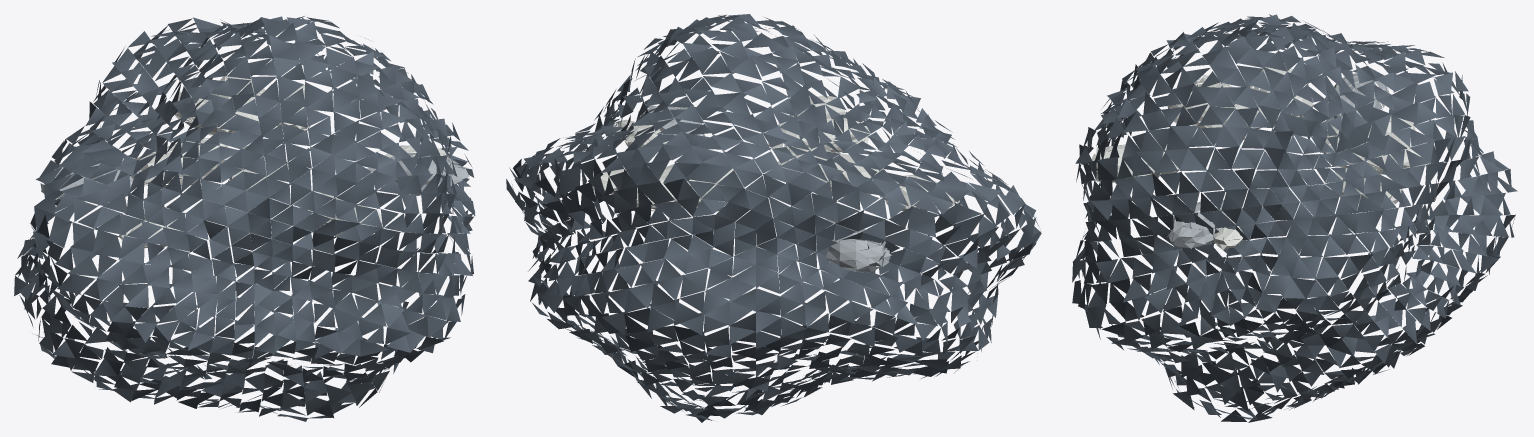
Rendered from standard-lod0.glb.
3 renders of one model, left to right at view 1: azimuth 30°, elevation 25°; view 2: azimuth 150°, elevation 25°; view 3: azimuth 270°, elevation 25°, orthographic.
Visible parts, largest first — view 1: tin-host-rock, tin-mineral-seams; view 2: tin-host-rock, tin-mineral-seams; view 3: tin-host-rock, tin-mineral-seams.
Part boxes in pixels (<box>): tin-host-rock: <box>14,16,475,421</box>; tin-mineral-seams: <box>40,74,469,248</box>; tin-host-rock: <box>506,14,1041,422</box>; tin-mineral-seams: <box>592,95,962,272</box>; tin-host-rock: <box>1072,14,1517,422</box>; tin-mineral-seams: <box>1088,67,1425,250</box>.
Bounding box in the file's own units: 2.75 × 2.15 × 2.33.
